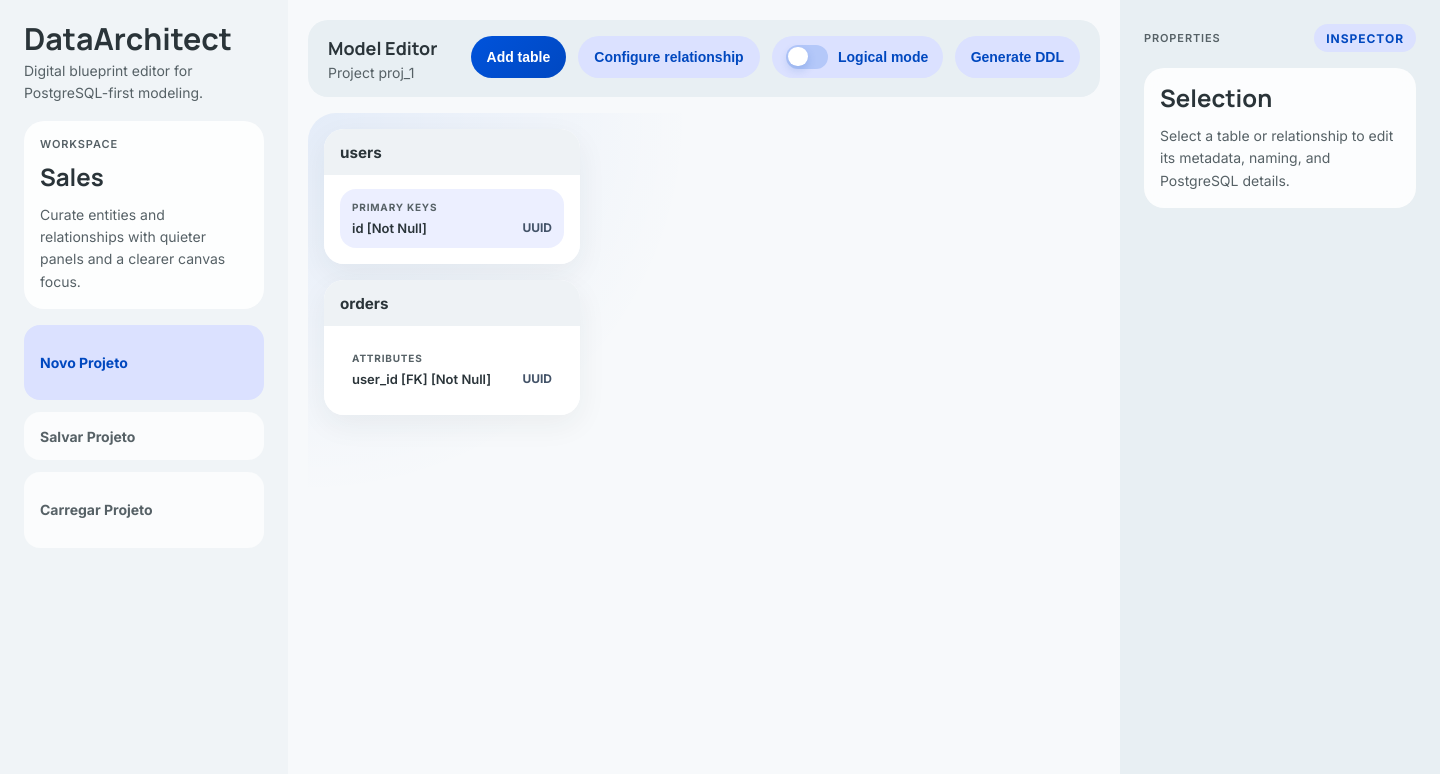
Test: ModelerWorkspace › opens a prefilled relationship modal when dragging from one table handle to another
Click the text "users". click: (452, 152)
box: [324, 129, 580, 175]
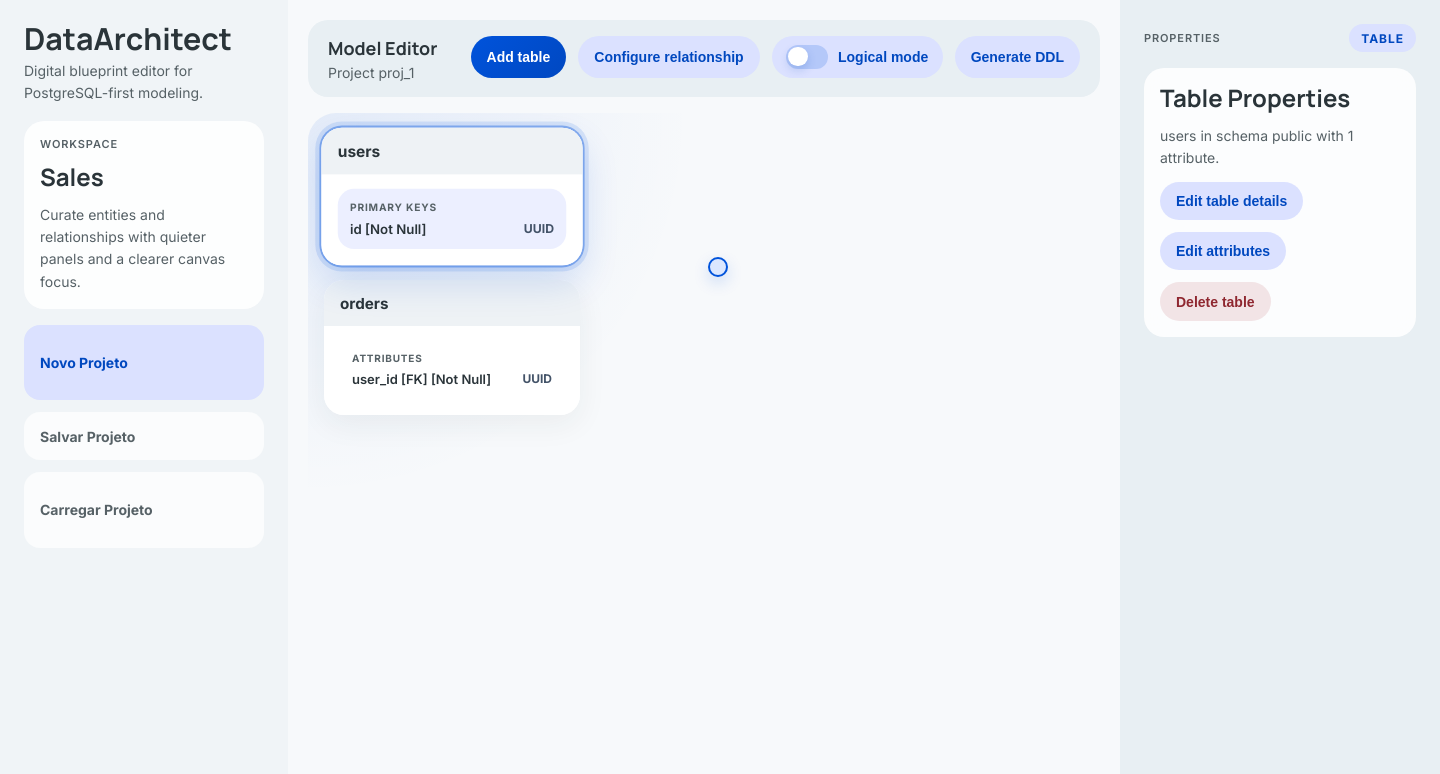
Press the mouse on the button named "Create relationship from users" at (718, 266), box [708, 256, 728, 276]
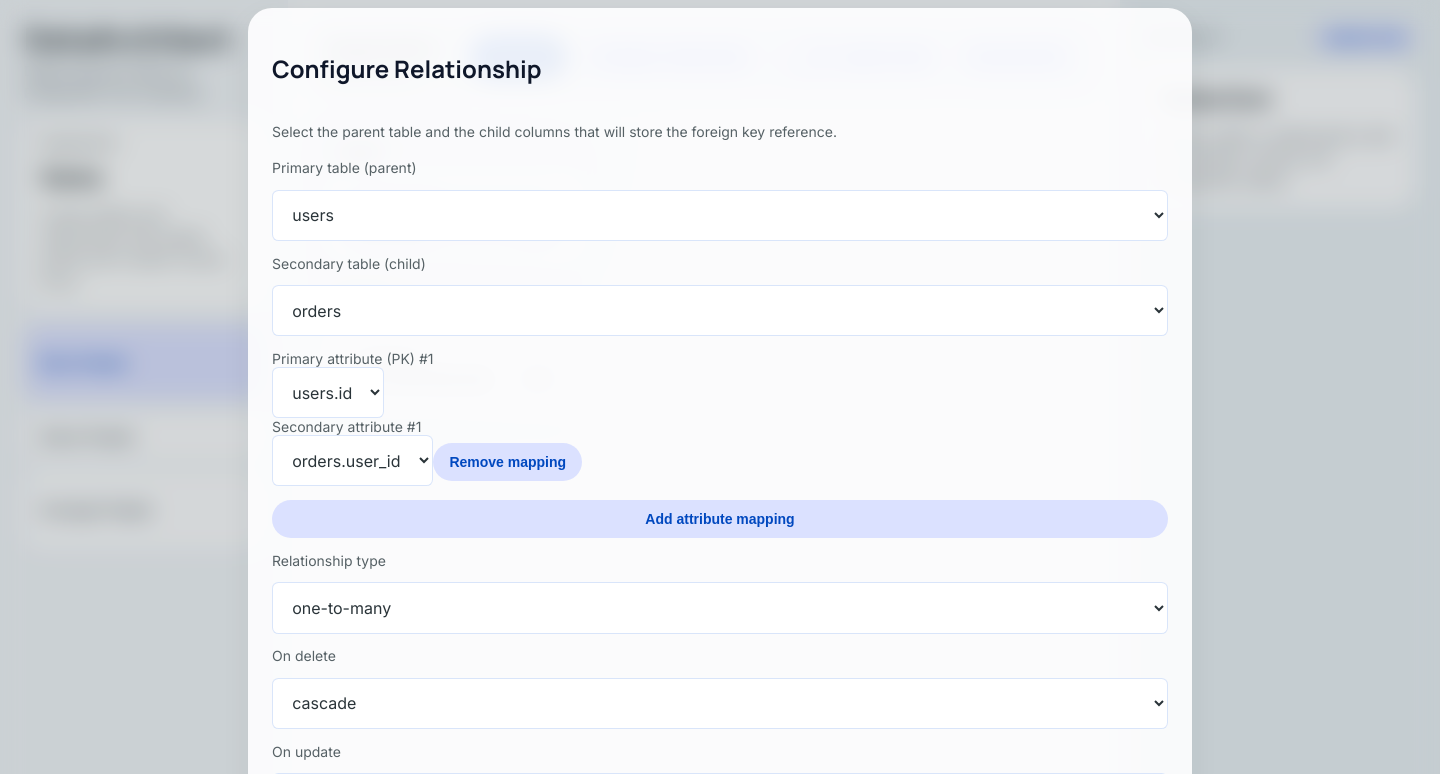
Check: the heading "Configure Relationship" is shown, box [272, 52, 542, 85]
Check: the dropdown labelled "Primary table" shows "users", box [272, 190, 1168, 241]
Check: the dropdown labelled "Secondary table" shows "orders", box [272, 285, 1168, 336]
